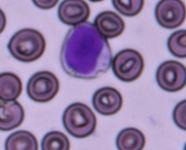L: (60, 20, 112, 78)
